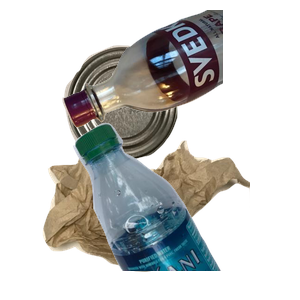glass: (60, 10, 300, 130)
metal: (62, 43, 232, 198)
plastic: (71, 120, 300, 300)
trash: (40, 138, 280, 300)
